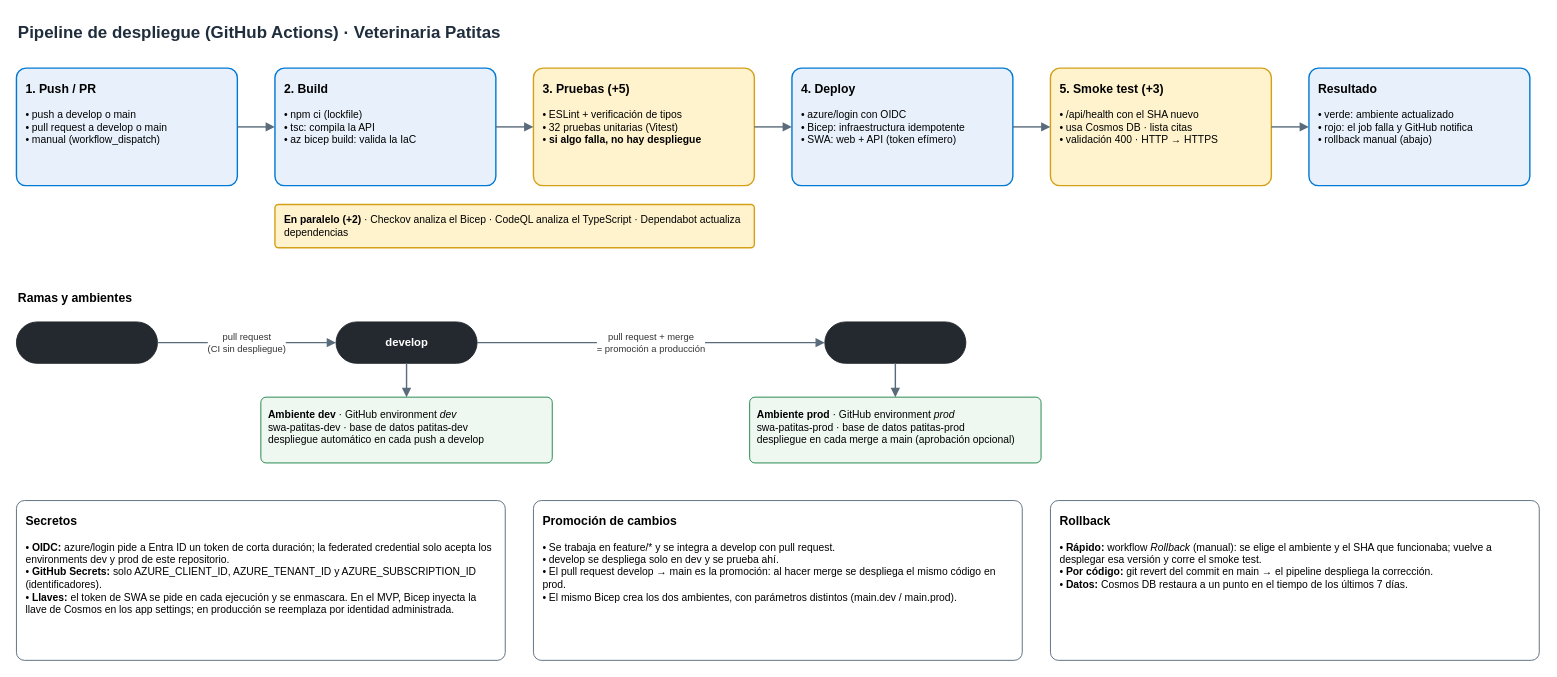
The diagram is 1557 pixels wide and 677 high, and some of its shapes have lost their labels. Here are the shapes that lost their labels. From the top down, the centre of each, then its label:
At pixel 86 342: "feature/*".
At pixel 895 342: "main".
